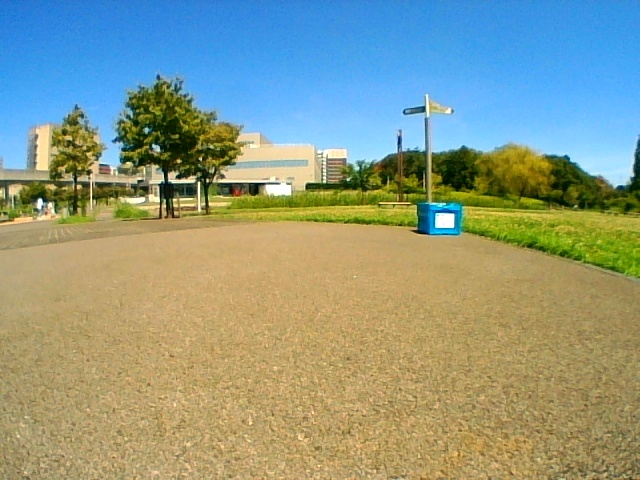blue_box: (418, 204, 460, 234)
tag: (436, 214, 454, 228)
